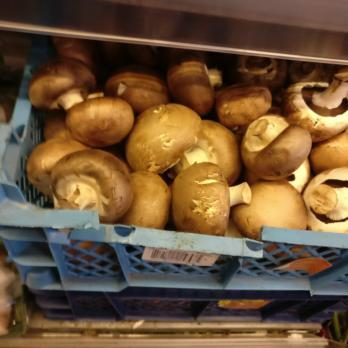Mushroom: (26, 59, 346, 234)
